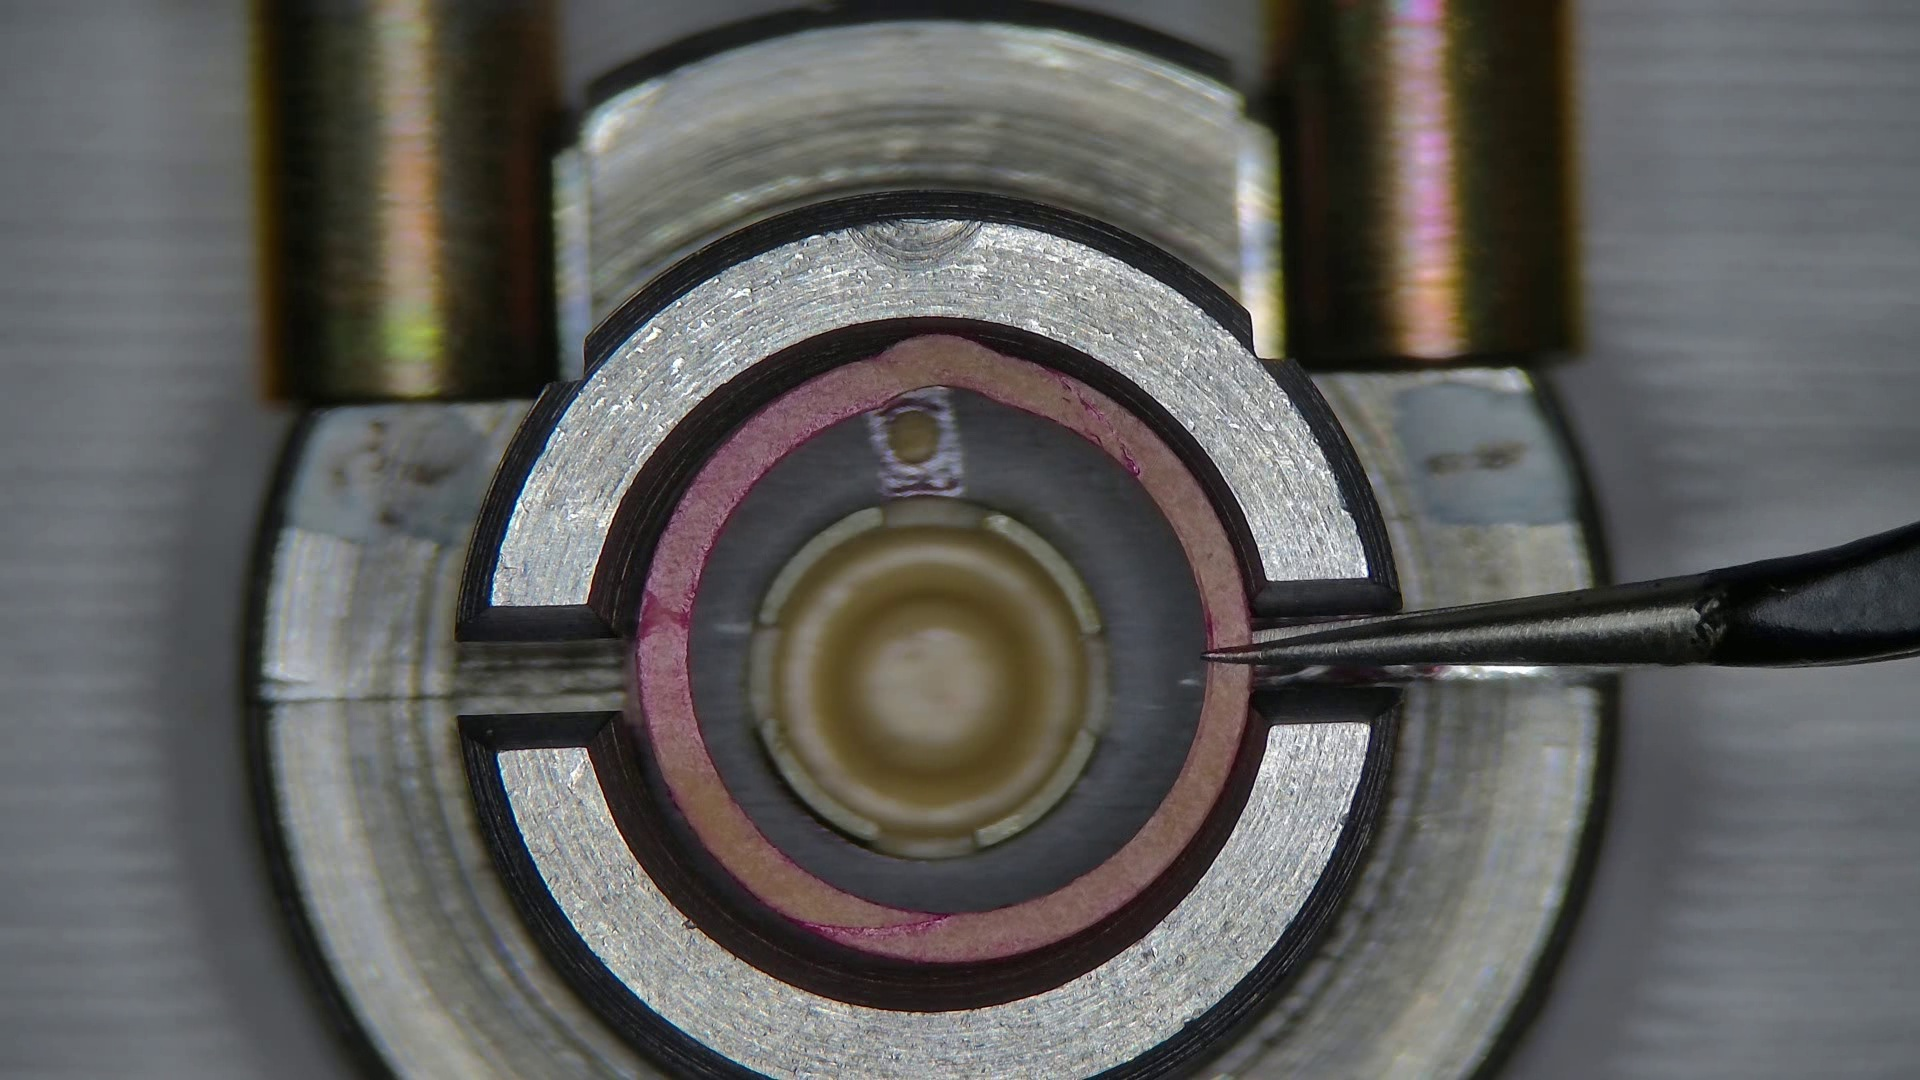GreyOring: (635, 333, 1253, 964)
YellowOring: (693, 392, 1202, 910)
